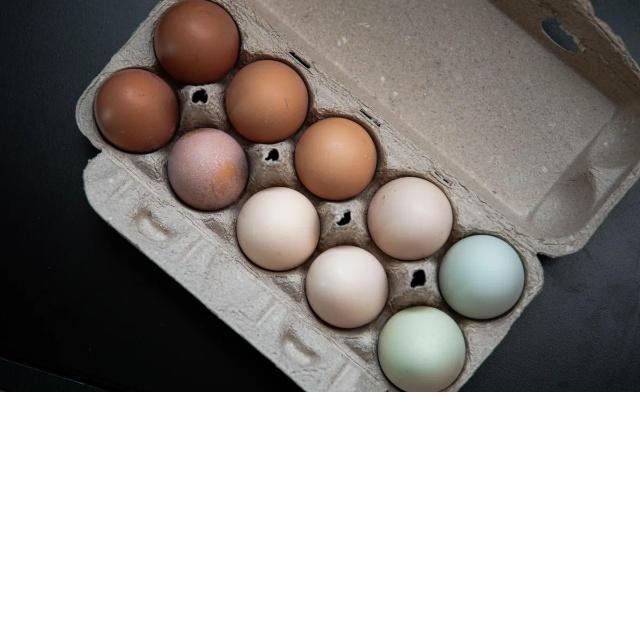mit: (365, 171, 455, 262), (223, 57, 315, 145), (150, 2, 245, 87), (91, 69, 184, 155), (292, 116, 380, 203), (234, 184, 321, 272), (166, 126, 252, 214), (304, 243, 389, 329)
